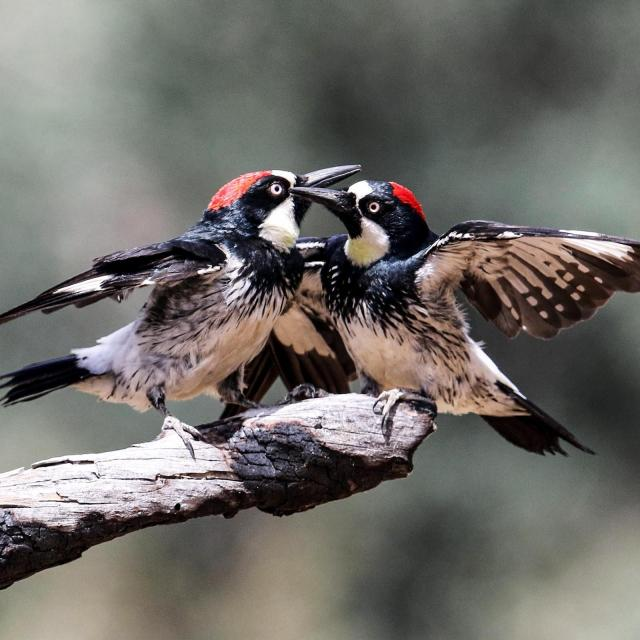Woodpecker: (0, 148, 368, 453), (300, 154, 640, 459)
